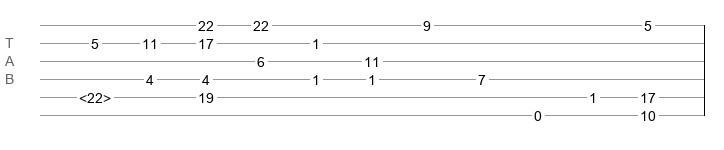0: (534, 108, 542, 118)
1: (312, 36, 320, 46), (312, 72, 320, 82), (368, 72, 376, 82), (589, 90, 597, 100)
10: (640, 108, 656, 118)
11: (142, 36, 158, 46), (364, 54, 380, 64)
17: (198, 36, 214, 46), (640, 90, 656, 100)
19: (198, 90, 214, 100)
22: (198, 18, 214, 28), (253, 18, 269, 28)
4: (146, 72, 154, 82), (202, 72, 210, 82)
5: (91, 36, 99, 46), (644, 18, 652, 28)
6: (257, 54, 265, 64)
7: (478, 72, 486, 82)
9: (423, 18, 431, 28)
harmonic: (79, 90, 111, 100)
